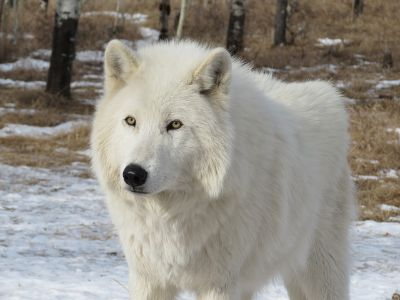wolf: (84, 32, 360, 298)
